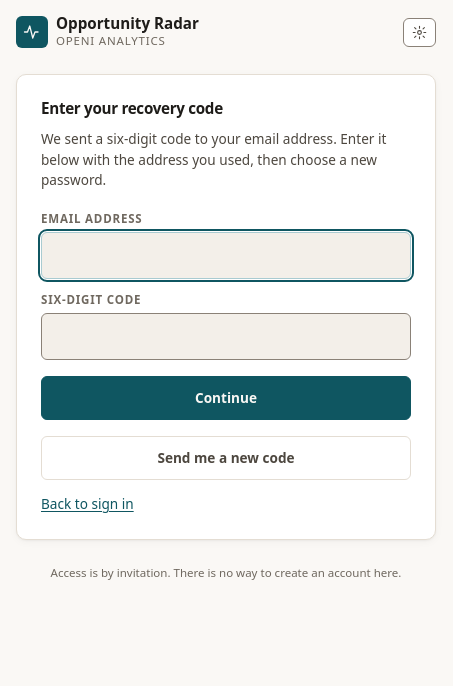
Test: the code page grants nothing without the right code › refuses an incorrect code and grants no session
expect the heading "Enter your recovery code" is shown: met, box [41, 98, 223, 118]
Type "analyst@openi-analytics.invalid" into the field labelled "Email address" at point(226, 256), box [41, 232, 411, 279]
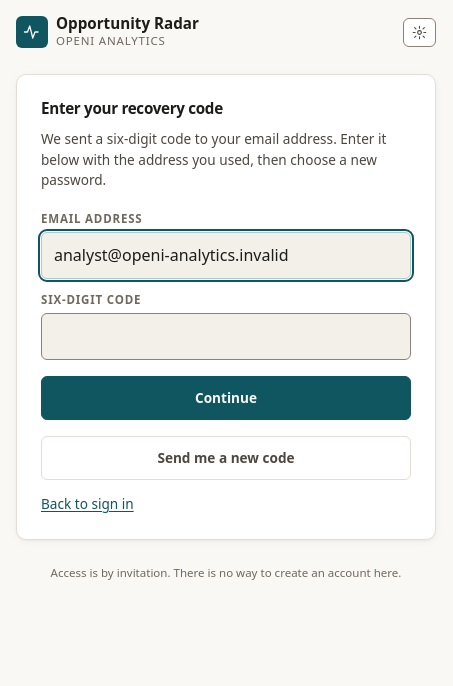
Type "999999" into the field labelled "Six-digit code" at point(226, 336), box [41, 313, 411, 360]
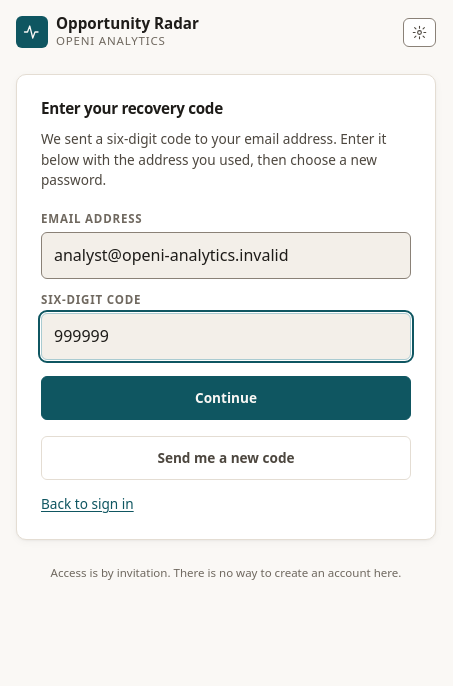
Click the button "Continue" at point(226, 398), box [41, 376, 411, 420]
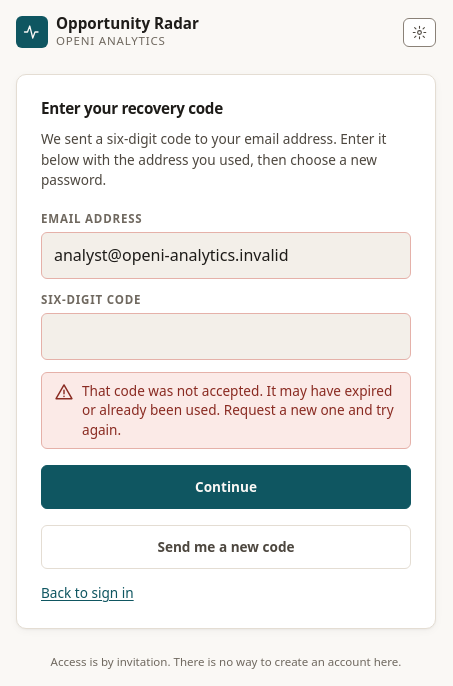
expect the message shows "was not accepted": met, box [82, 381, 394, 439]
